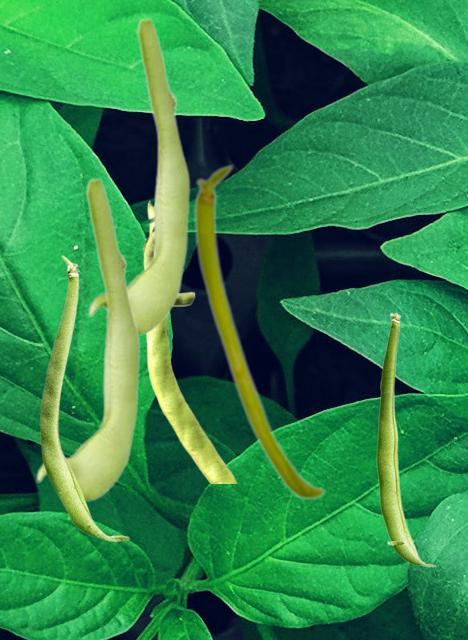french_bean: (193, 163, 325, 500), (35, 176, 139, 500), (87, 16, 189, 334), (142, 200, 236, 482), (40, 255, 129, 541), (376, 312, 436, 566)
